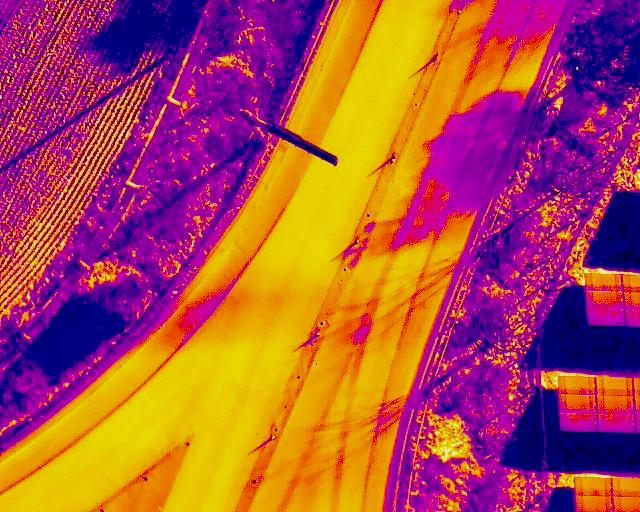No-Anomaly: (594, 377, 635, 396), (598, 396, 636, 415), (558, 394, 596, 413), (576, 477, 612, 497), (558, 375, 595, 394), (585, 274, 621, 292), (589, 309, 626, 326), (586, 292, 623, 309), (560, 415, 598, 431), (598, 415, 636, 431), (576, 496, 613, 511)
